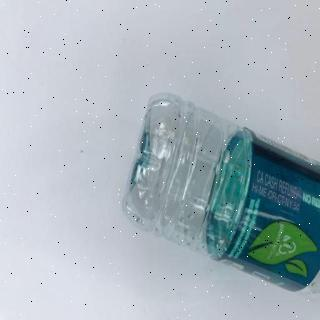Plastic-bottle: (123, 92, 320, 294)
